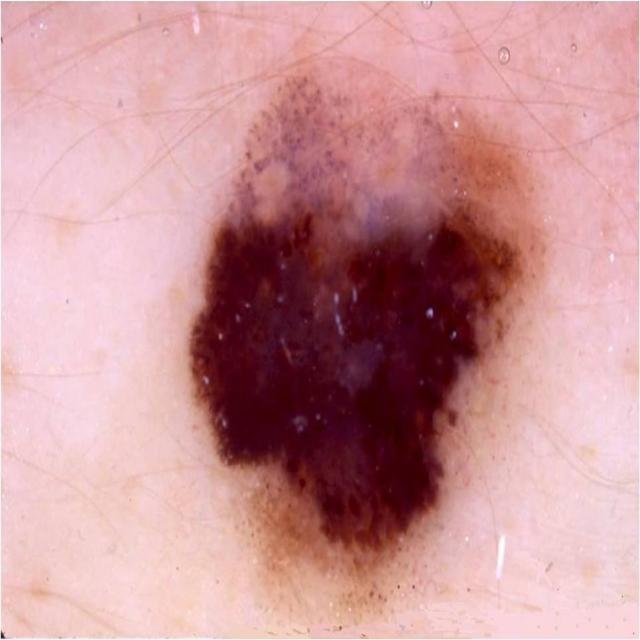Melanoma: (187, 60, 542, 602)
